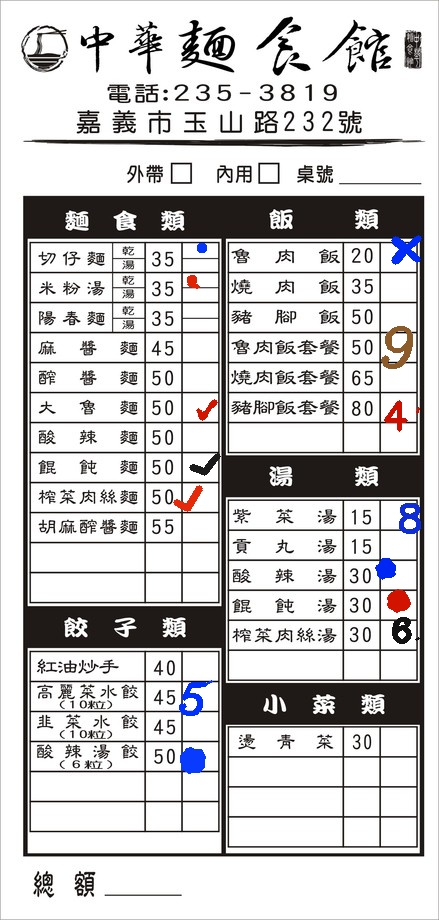marked_circle: (182, 743, 218, 772), (380, 561, 416, 590), (380, 589, 416, 618), (183, 244, 217, 257), (183, 273, 217, 286)
marked_number_4: (381, 393, 417, 422)
marked_number_5: (181, 681, 217, 710)
marked_number_6: (380, 619, 416, 648)
marked_number_8: (381, 500, 417, 529)
marked_number_9: (378, 332, 414, 361)
marked_tick: (179, 453, 215, 482), (181, 483, 217, 512), (181, 392, 217, 421)
marked_x: (381, 242, 417, 271)
